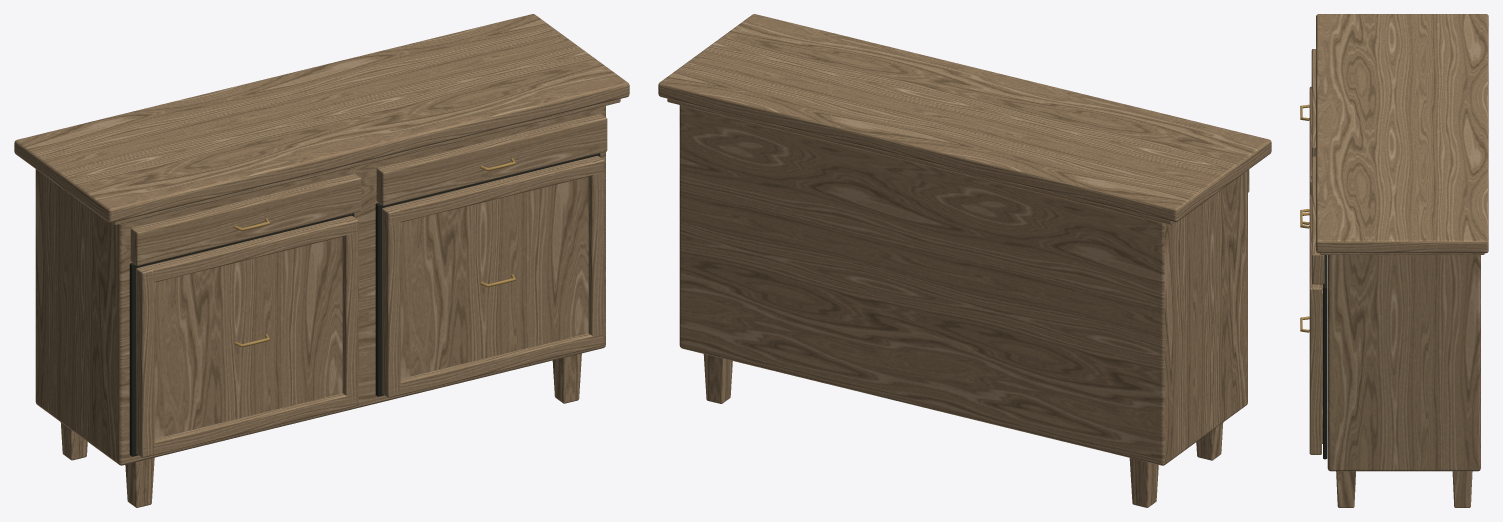
The model's file is poker-sideboard.glb.
3 views of the same model, side by side, from view 1: azimuth 30°, elevation 25°; view 2: azimuth 150°, elevation 25°; view 3: azimuth 270°, elevation 25° (orthographic). The views are drawn at different scales.
Visible parts, largest first — view 1: poker-sideboard - Poker satin walnut joinery, poker-sideboard - Poker dark fixture details; view 2: poker-sideboard - Poker satin walnut joinery; view 3: poker-sideboard - Poker satin walnut joinery, poker-sideboard - Poker dark fixture details, poker-sideboard - Poker aged satin brass.
Boxes of the visible parts, box(x1,y1,x2,y2) form: poker-sideboard - Poker satin walnut joinery: box(14, 14, 629, 507); poker-sideboard - Poker dark fixture details: box(129, 153, 600, 456); poker-sideboard - Poker satin walnut joinery: box(658, 14, 1271, 507); poker-sideboard - Poker satin walnut joinery: box(1309, 14, 1488, 507); poker-sideboard - Poker dark fixture details: box(1323, 255, 1327, 459); poker-sideboard - Poker aged satin brass: box(1300, 104, 1309, 332).
Size of the model in its own units: 1.39 by 0.8085 by 0.4857.
Materials: 3 (1 with a texture image).
